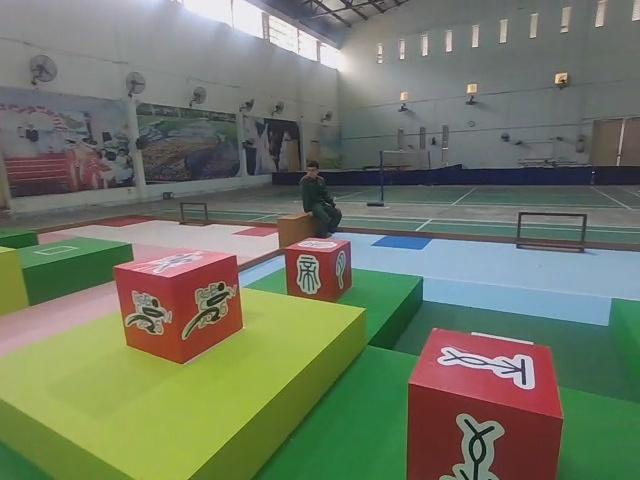R1: (105, 247, 247, 366)
R2 Fake: (283, 238, 355, 301)
R2 Real: (405, 325, 566, 480)
